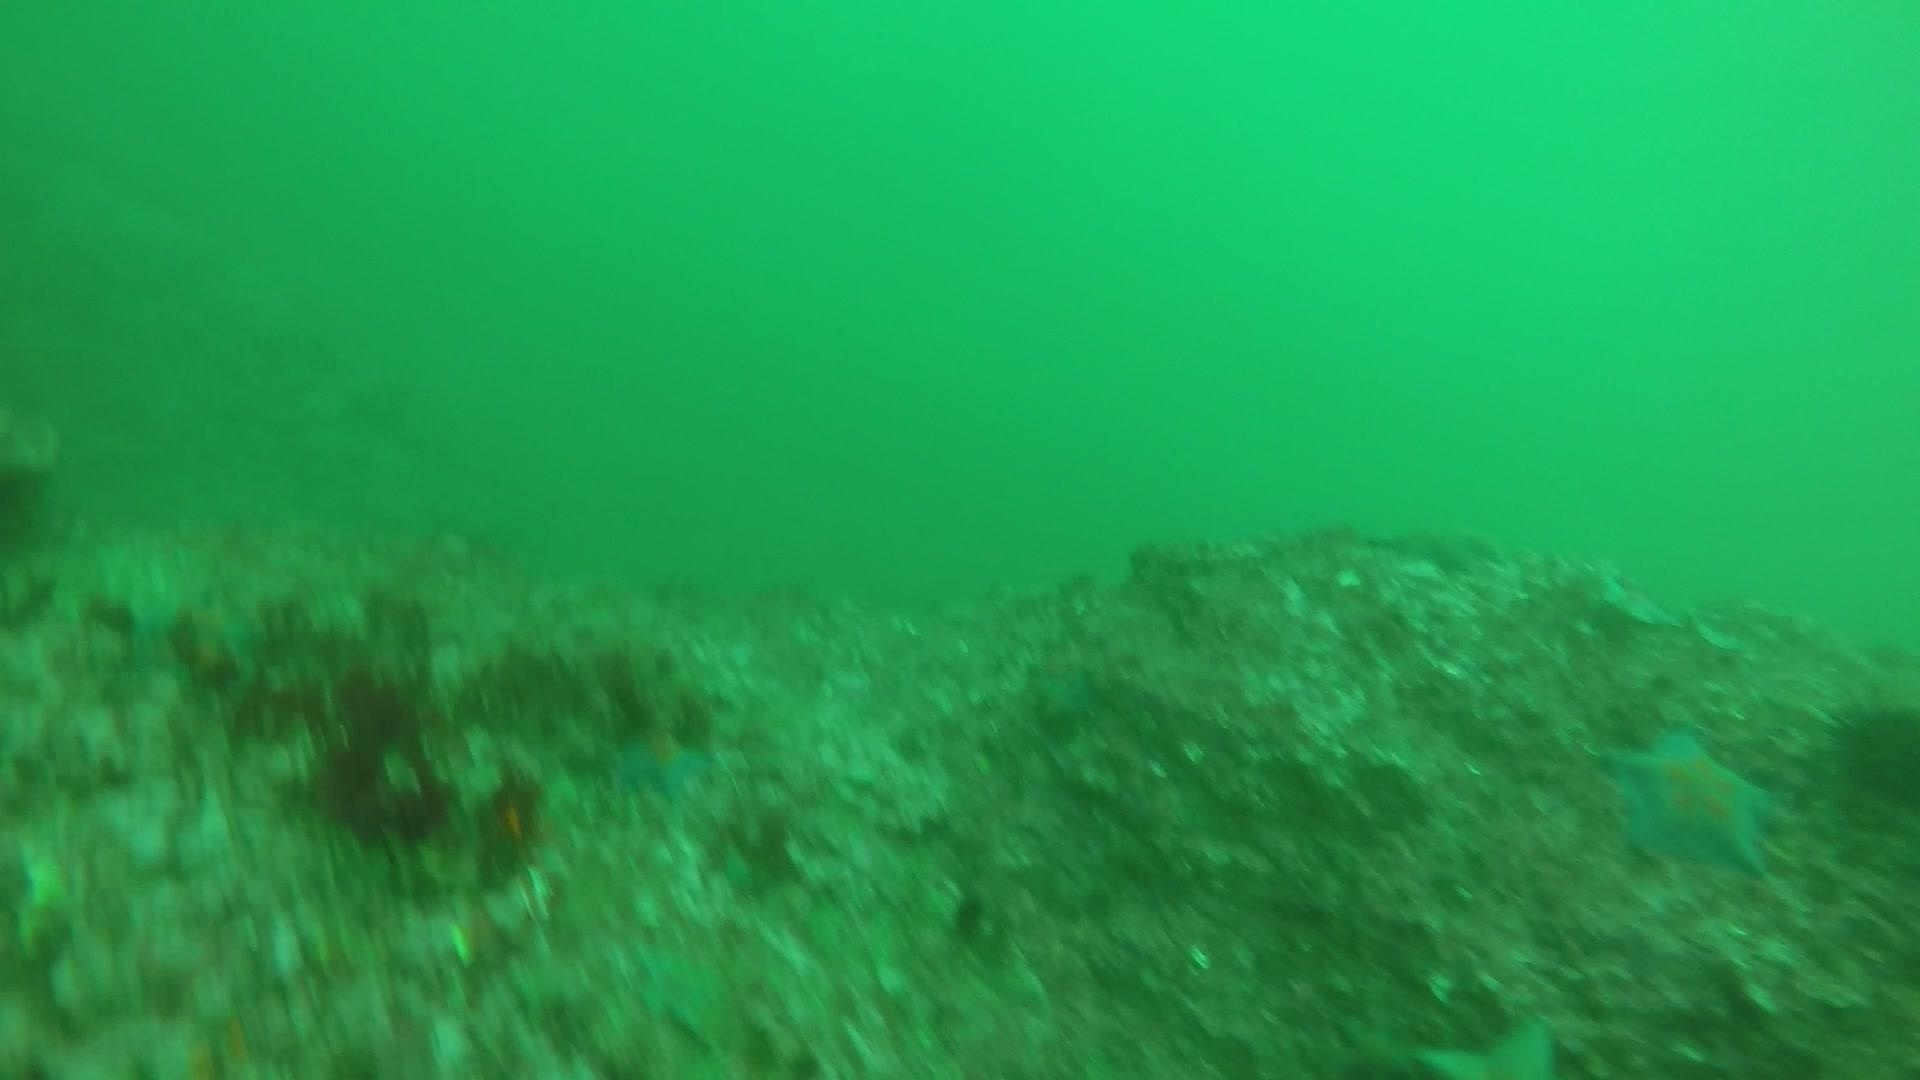echinus: (1824, 692, 1919, 810)
starfish: (1597, 717, 1791, 884), (127, 583, 268, 687), (1415, 1007, 1576, 1073), (603, 717, 720, 803), (1021, 640, 1112, 729)
